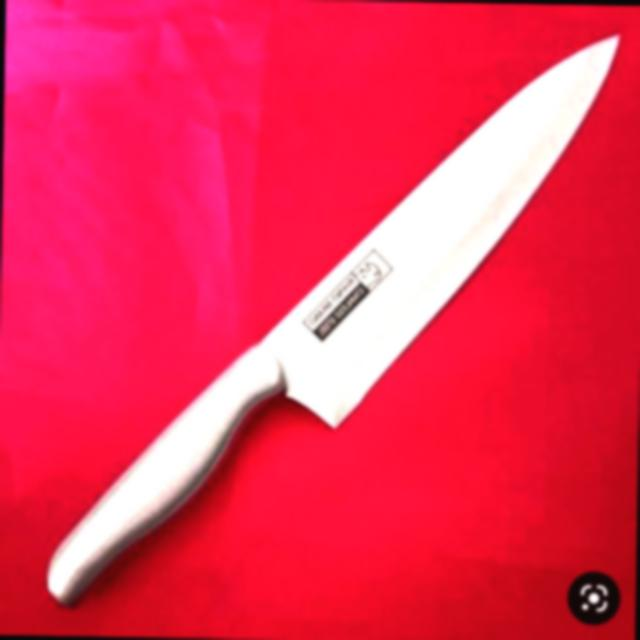knife: (39, 16, 624, 620)
